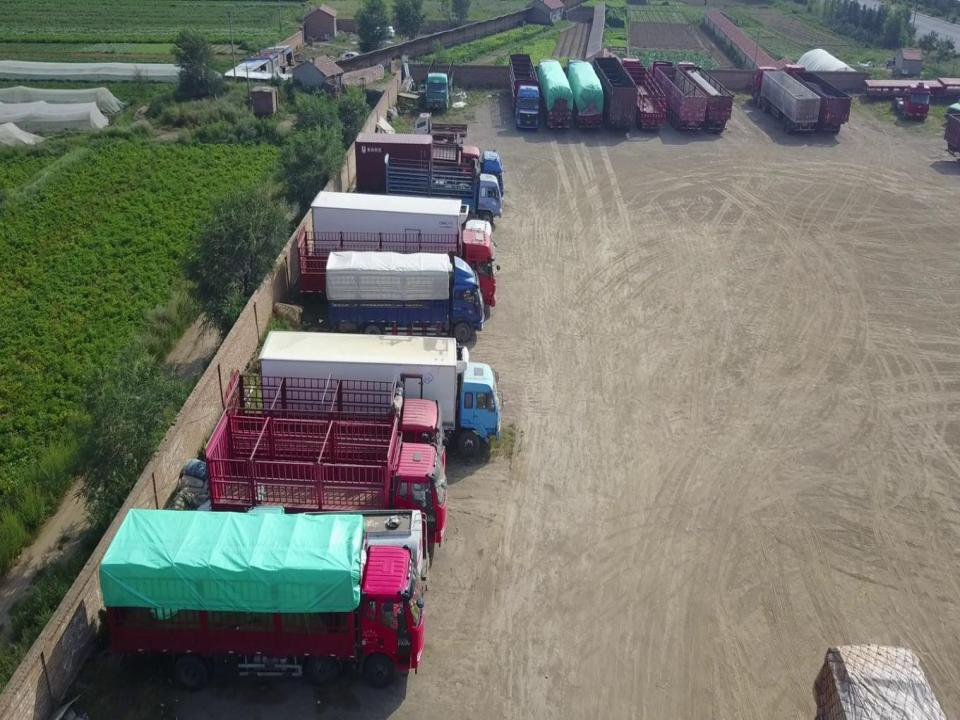truck: (99, 507, 424, 689), (205, 408, 447, 558), (260, 330, 500, 458), (223, 370, 445, 498), (312, 189, 498, 296), (296, 223, 500, 317), (242, 505, 424, 607), (326, 252, 484, 346), (355, 130, 503, 205), (385, 152, 502, 226), (751, 66, 822, 134), (783, 68, 851, 136), (675, 60, 735, 135), (648, 61, 707, 134), (622, 57, 666, 136), (593, 56, 637, 134), (538, 58, 574, 133), (507, 53, 540, 131), (568, 61, 603, 133), (892, 81, 933, 124), (414, 111, 468, 143), (426, 56, 453, 112)
